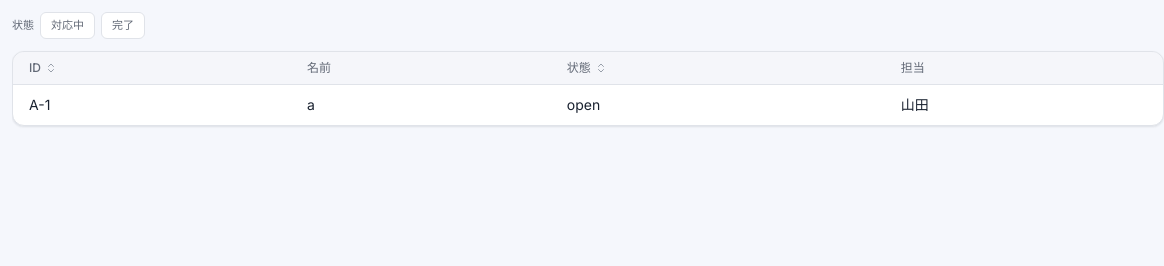
Test case: DataTable (Phase 3) › filter 0 件で filtered-empty + 解除 action
Click the button "完了": (123, 25) [101,12,145,38]
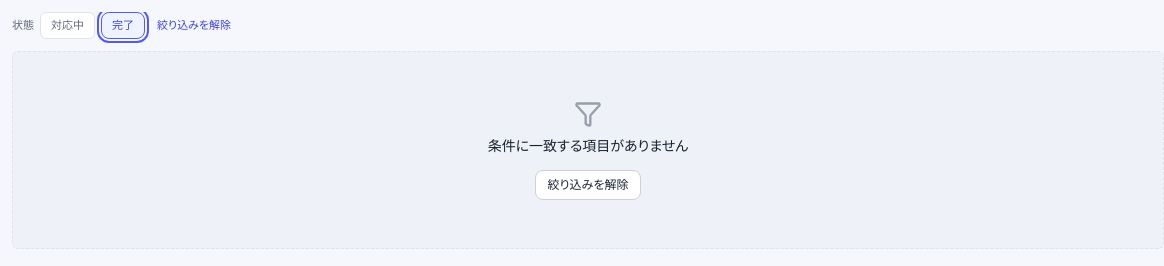
Expected: the text "条件に一致する項目がありません" is shown, [488,136,688,156]
